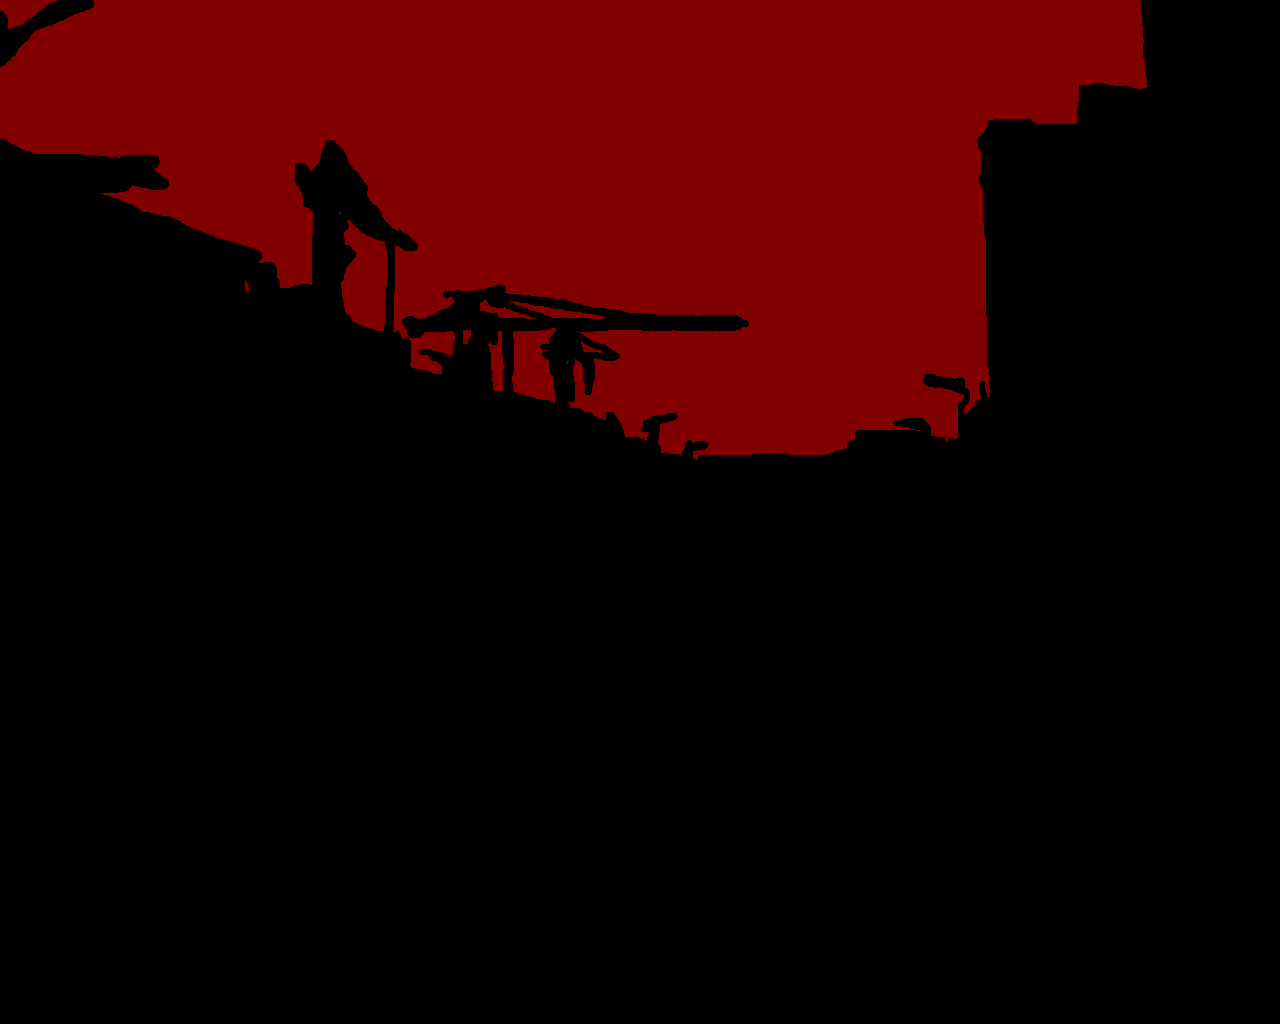Sky: (1, 1, 1147, 460)
